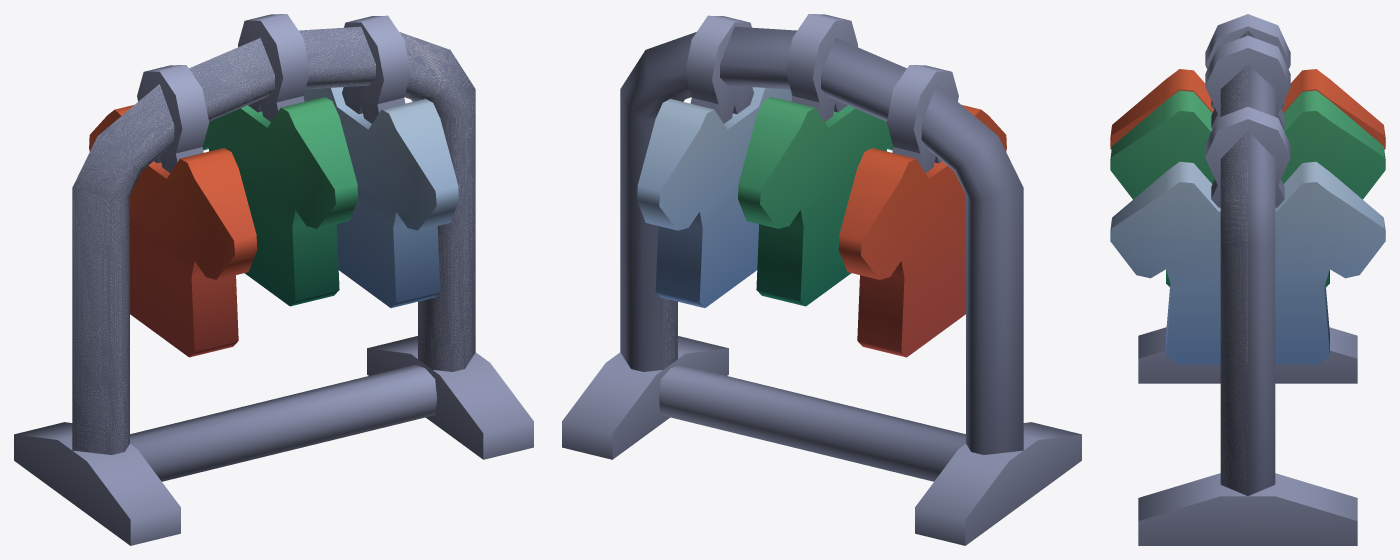
Rendered from clothing_rack.fbx.
3 renders of one model, left to right at view 1: azimuth 30°, elevation 25°; view 2: azimuth 150°, elevation 25°; view 3: azimuth 270°, elevation 25°, orthographic. The views are drawn at different scales.
Visible parts, largest first — view 1: clothing-rack; view 2: clothing-rack; view 3: clothing-rack.
Part boxes in pixels (x1,y1,x2,y2): clothing-rack: (14, 14, 533, 545); clothing-rack: (562, 14, 1081, 545); clothing-rack: (1110, 14, 1385, 545).
Bounding box in the file's own units: 0.9662 × 1 × 0.6064.
